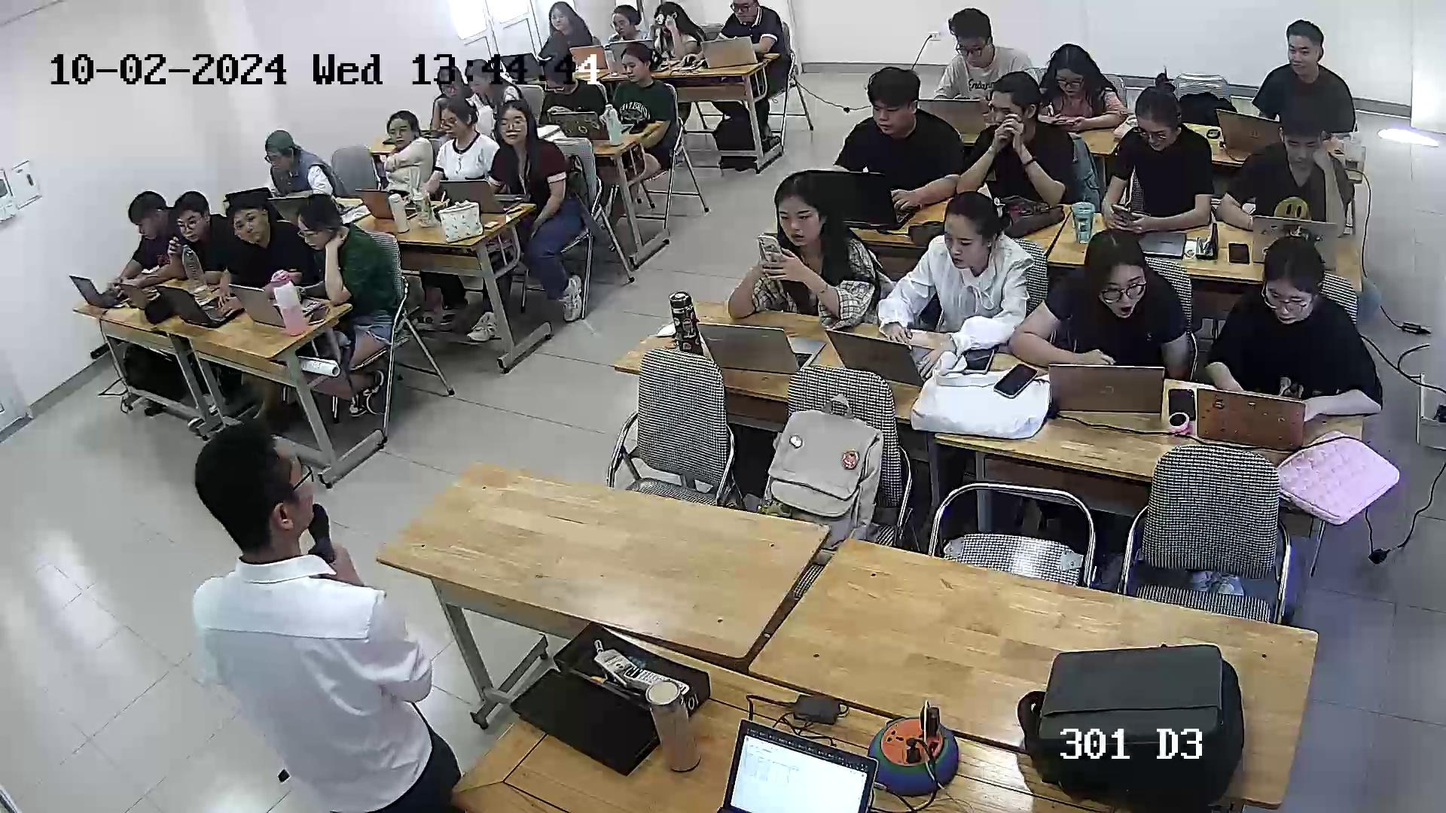Look Around: (975, 66, 1040, 156)
Stand Up: (196, 422, 432, 813)
phone: (747, 215, 797, 291), (1104, 193, 1149, 244), (1055, 100, 1080, 127)
